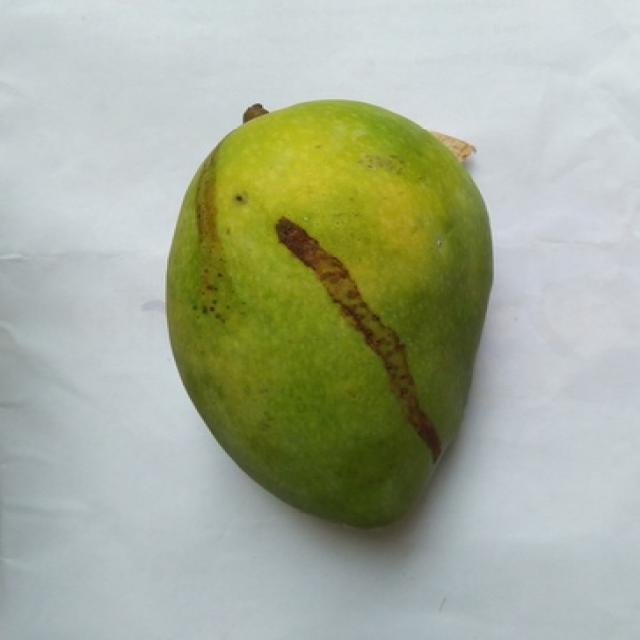Mango: (167, 102, 491, 527)
